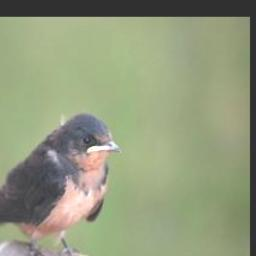Swallow: (0, 110, 122, 256)
